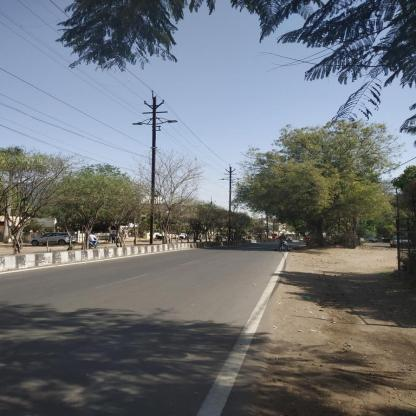Electrical Pole: (131, 87, 180, 245)
